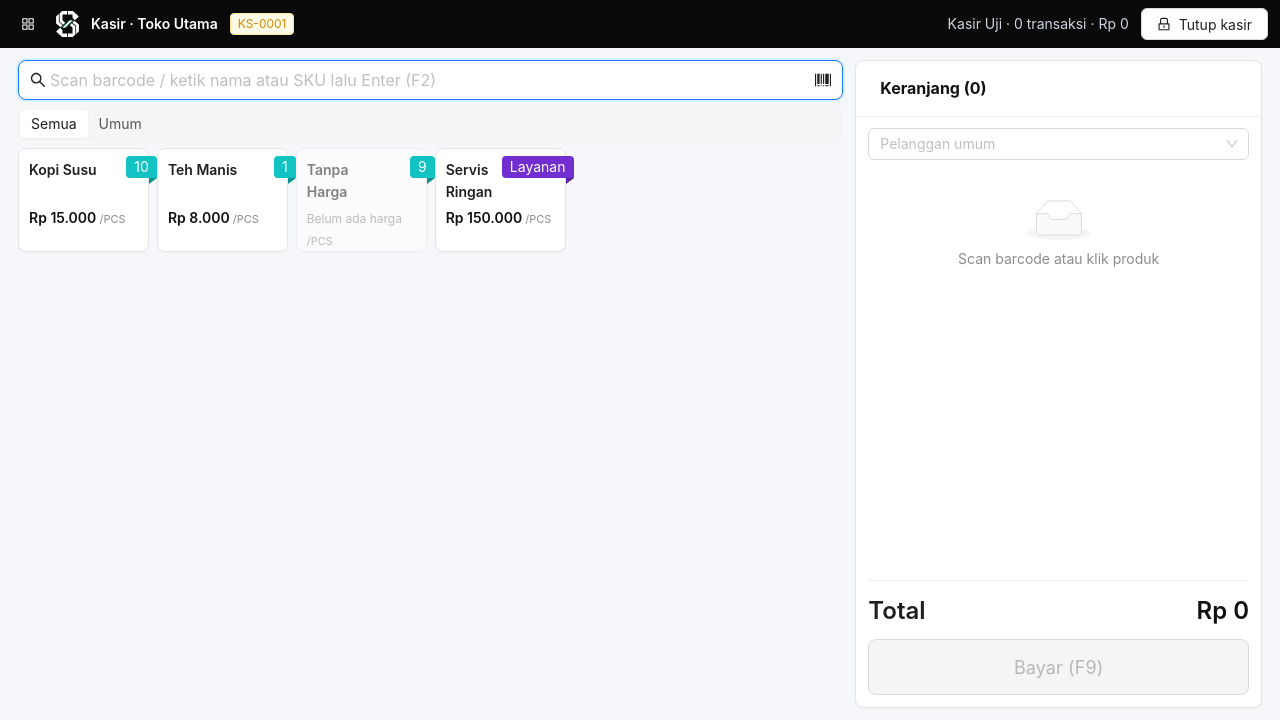
Test: Kasir (Register) › klik produk memasukkan ke keranjang dan total terhitung
The width and height of the screenshot is (1280, 720).
Click the text "Kopi Susu" at (63, 170), box x1=29 y1=161 x2=97 y2=178
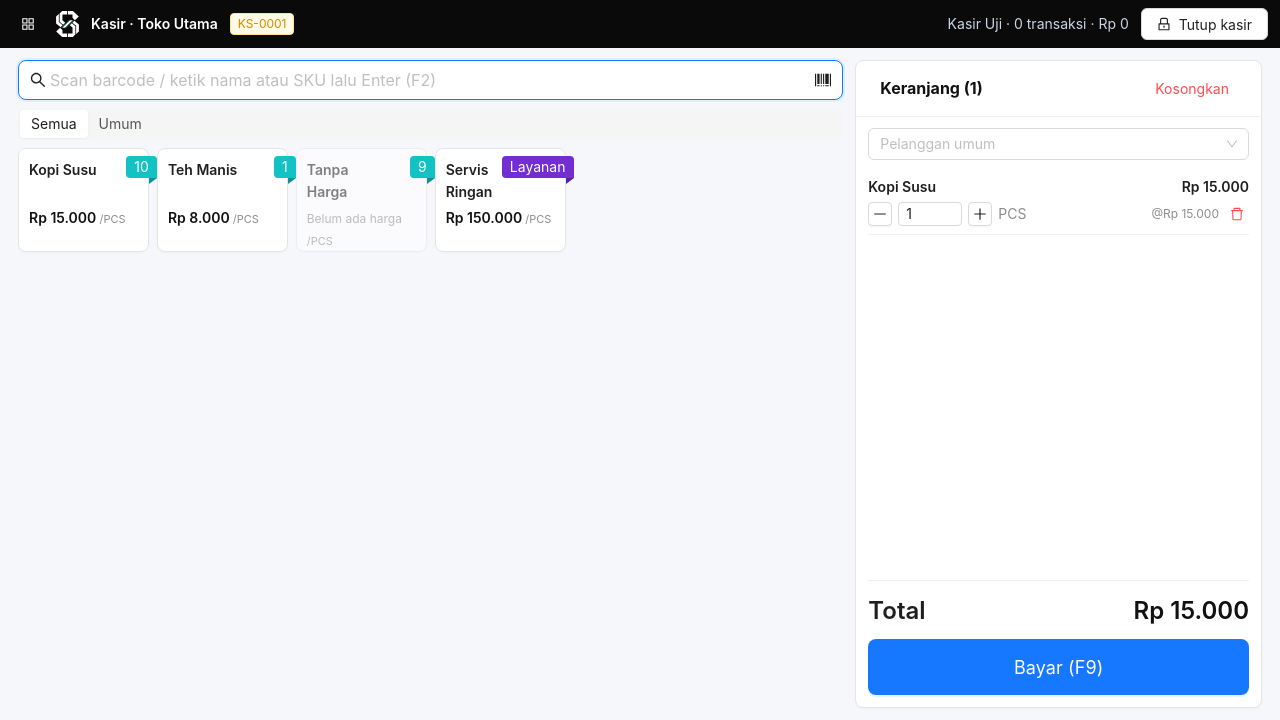
Check: the text "Rp 15.000" below "10" is shown, box x1=29 y1=209 x2=96 y2=226
Check: the text "Keranjang (1)" is shown, box x1=880 y1=78 x2=983 y2=98
